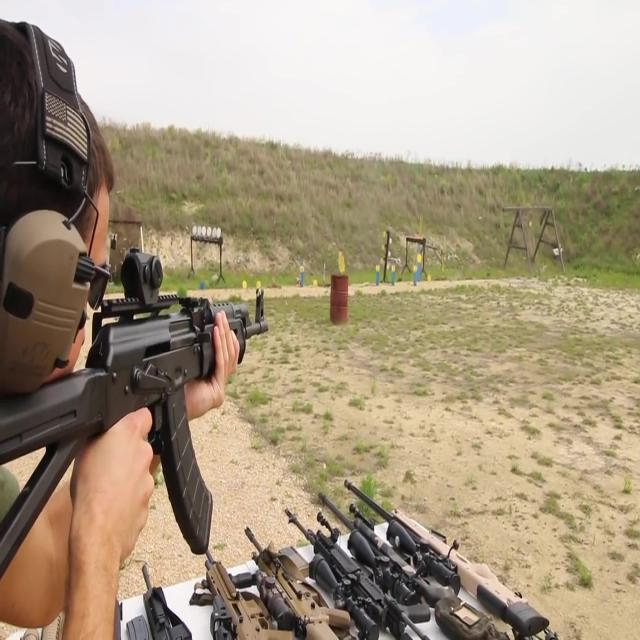Weapon: (73, 444, 570, 640), (1, 234, 271, 557)
